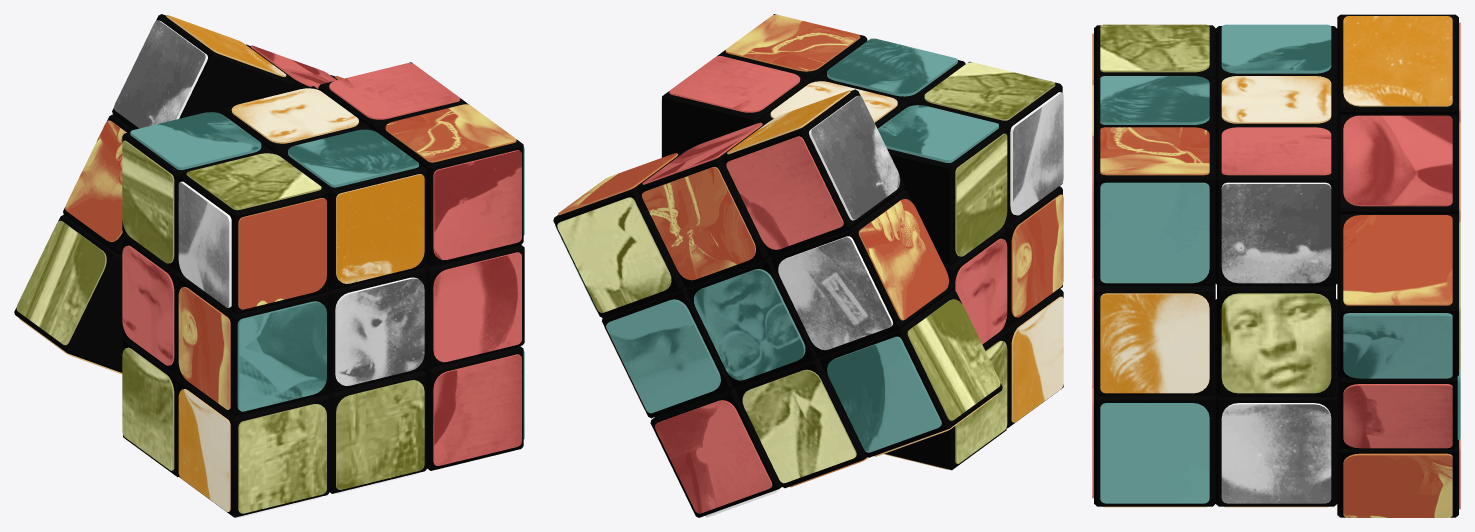
3 renders of one model, left to right at view 1: azimuth 30°, elevation 25°; view 2: azimuth 150°, elevation 25°; view 3: azimuth 270°, elevation 25°, orthographic. The views are drawn at different scales.
Parts seen in each view (by area): view 1: BASE9, BASE3, BASE26, BASE20, BASE25, BASE1, BASE21, BASE24, BASE6, BASE19, BASE5, BASE10 (+6 smaller); view 2: BASE1, BASE21, BASE8, BASE24, BASE27, BASE16, BASE9, BASE7, BASE18, BASE22, BASE23, BASE4 (+7 smaller); view 3: BASE27, BASE25, BASE4, BASE19, BASE2, BASE10, BASE15, BASE1, BASE16, BASE7, BASE22, BASE9 (+3 smaller).
Boxes of the visible parts, x1,y1,x2,y2 form: BASE9: [178, 151, 328, 314]; BASE3: [178, 378, 329, 517]; BASE26: [178, 276, 328, 416]; BASE20: [276, 128, 427, 289]; BASE25: [374, 103, 524, 266]; BASE1: [112, 14, 294, 129]; BASE21: [14, 215, 124, 374]; BASE24: [122, 110, 271, 272]; BASE6: [326, 370, 427, 493]; BASE19: [423, 346, 524, 470]; BASE5: [327, 267, 426, 392]; BASE10: [424, 245, 524, 367]; BASE1: [722, 89, 904, 256]; BASE21: [819, 290, 1002, 457]; BASE8: [770, 190, 953, 357]; BASE24: [877, 103, 1007, 265]; BASE27: [553, 150, 686, 317]; BASE16: [638, 120, 770, 287]; BASE9: [913, 61, 1063, 224]; BASE7: [650, 387, 783, 517]; BASE18: [735, 357, 868, 488]; BASE22: [602, 287, 734, 418]; BASE23: [686, 256, 818, 387]; BASE4: [661, 55, 810, 157]; BASE27: [1337, 214, 1460, 378]; BASE25: [1092, 127, 1215, 285]; BASE4: [1215, 127, 1337, 285]; BASE19: [1092, 388, 1215, 507]; BASE2: [1215, 350, 1337, 507]; BASE10: [1092, 278, 1215, 395]; BASE15: [1217, 285, 1335, 396]; BASE1: [1337, 14, 1460, 122]; BASE16: [1337, 114, 1460, 221]; BASE7: [1337, 375, 1460, 517]; BASE22: [1338, 370, 1460, 448]; BASE9: [1092, 24, 1215, 84].
Size of the model in its own units: 2.72 by 2.72 by 2.02.
Materials: 7 (6 with a texture image).
